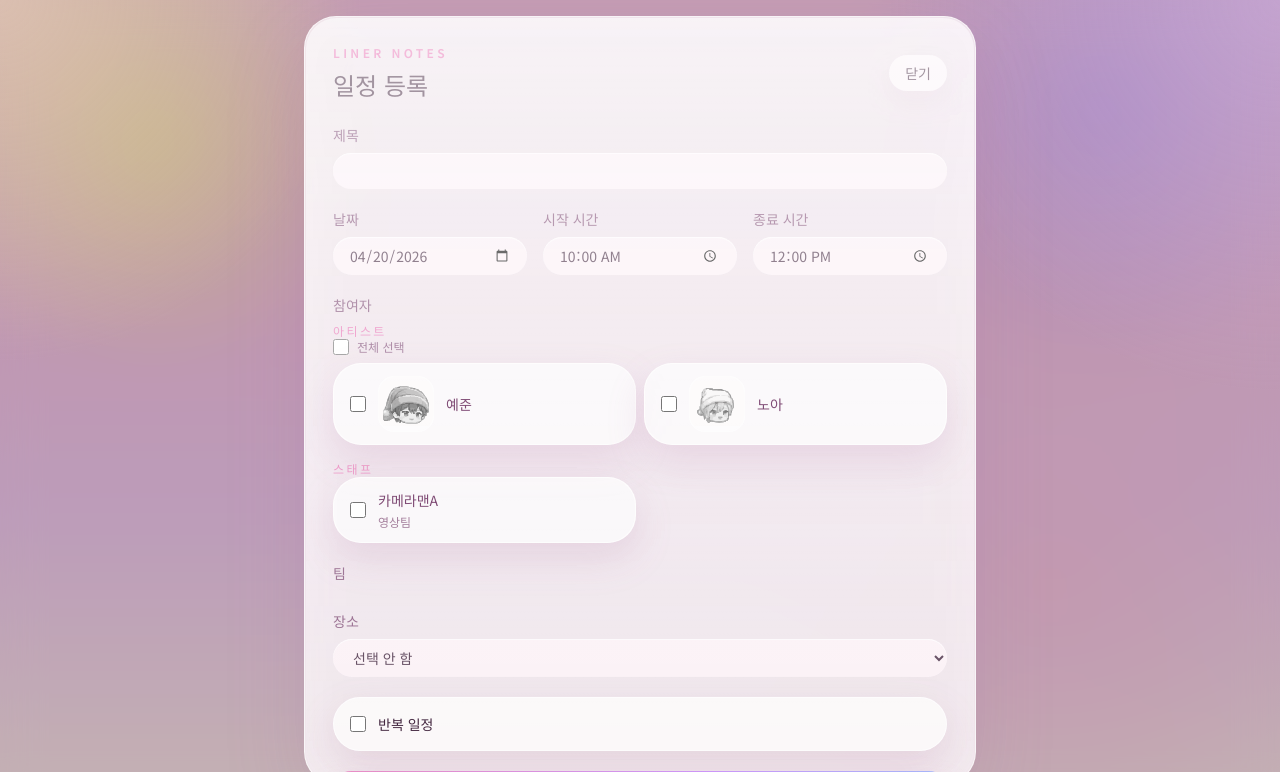
Test: toggles all artists with the select-all checkbox without affecting staff
The width and height of the screenshot is (1280, 772).
What coordinates should you click on to do the following:
click the checkbox named "아티스트 전체 선택"
I would click on:
 (341, 347)
Its box is [333,339,349,355].
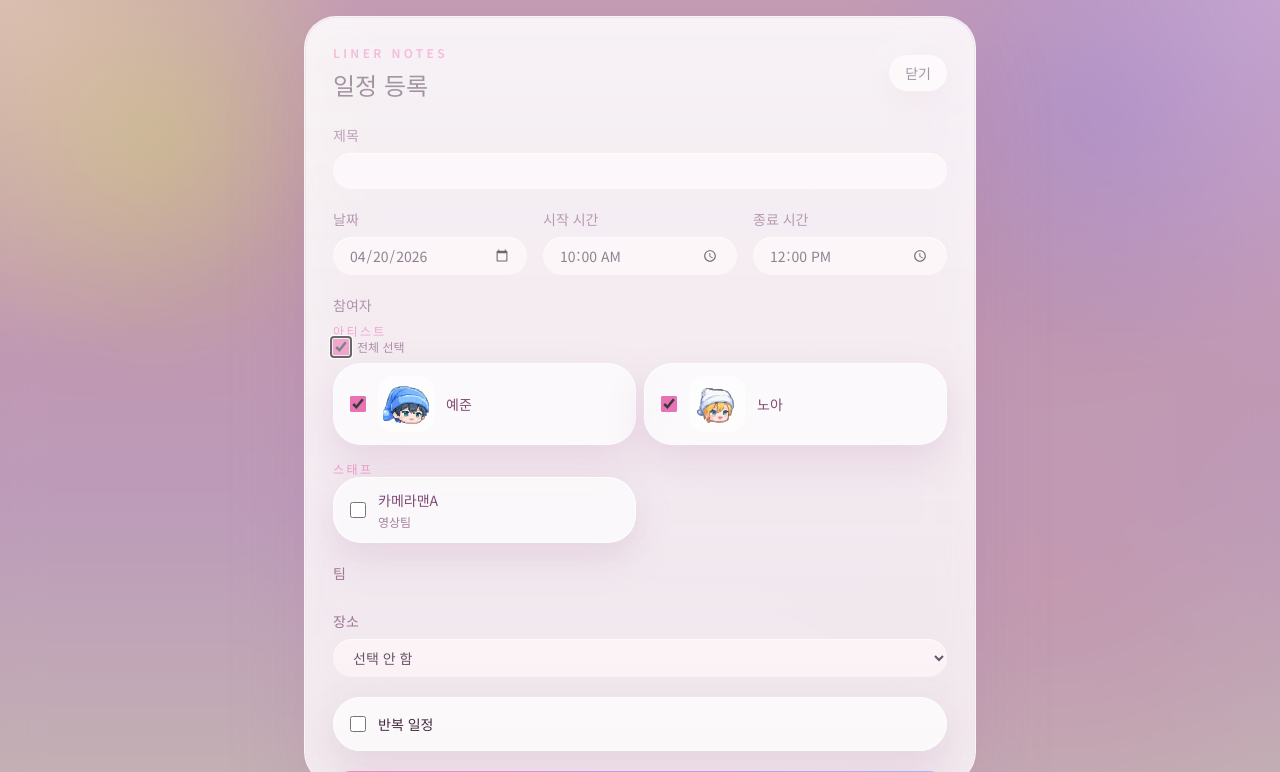
Expected: the checkbox labelled "카메라맨A" is not checked, [350,502,366,518]
Now the checkbox labelled "예준" is checked, box [350,396,366,412]
Now the checkbox labelled "노아" is checked, box [661,396,677,412]
What coordinates should you click on to do the following:
click the checkbox named "아티스트 전체 선택"
I would click on:
 (341, 347)
Its box is [333,339,349,355].
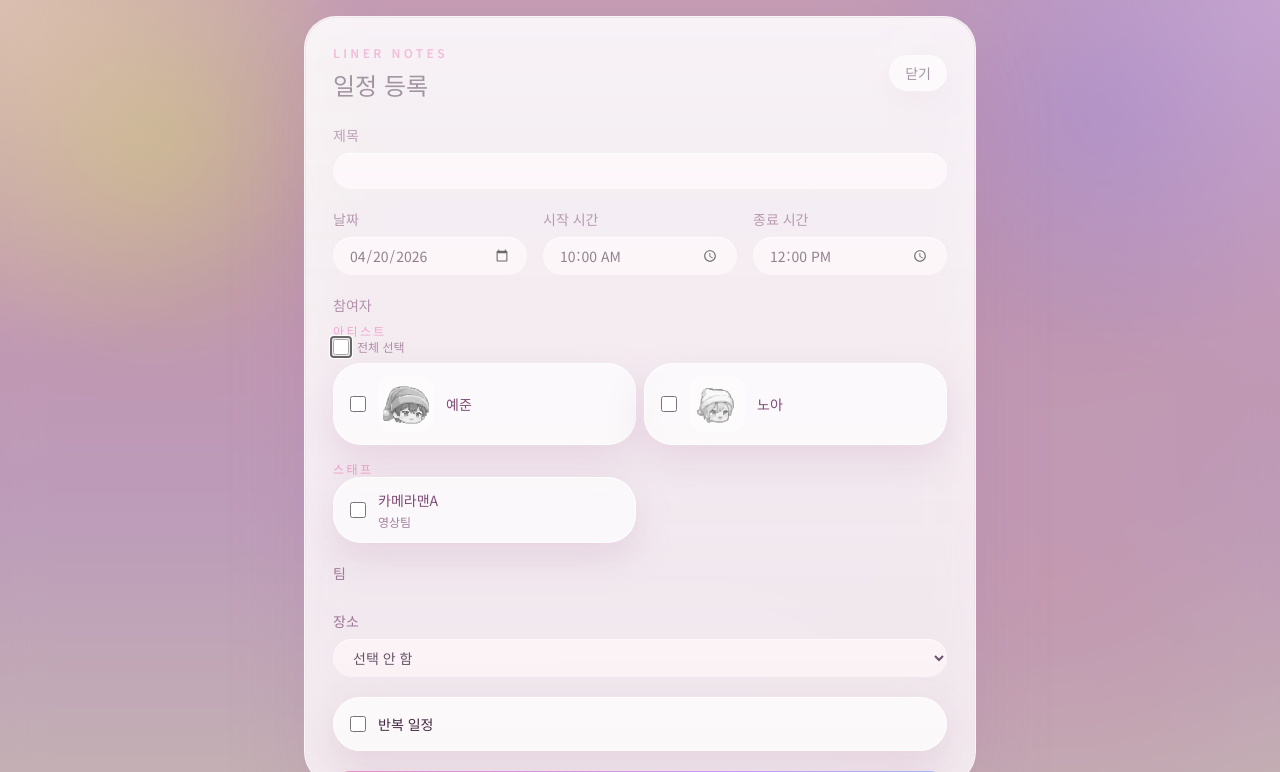
Expected: the checkbox labelled "카메라맨A" is not checked, [350,502,366,518]
Now the checkbox labelled "예준" is not checked, box [350,396,366,412]
Now the checkbox labelled "노아" is not checked, box [661,396,677,412]
